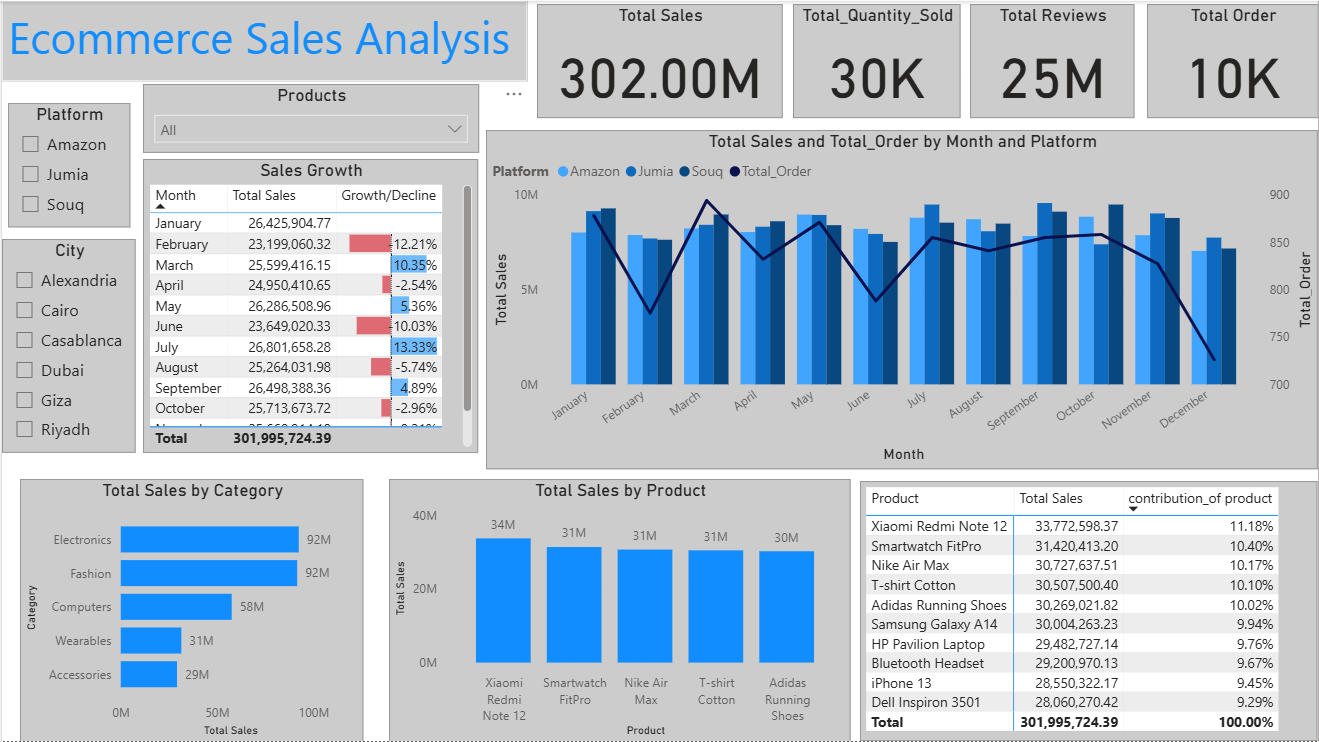

This screenshot's page, from the dashboard's own definition file:
{"tool":"powerbi","page":{"name":"Page 1","canvas":[1280,720],"ordinal":0},"visuals":[{"type":"textbox","box":[0,0,511.1,77.8],"z":0},{"type":"card","title":"Total Sales","fields":{"Values":["Measures (2).Total Sales"]},"box":[520,3.3,238.9,111.1],"z":1000},{"type":"card","title":"Total_Quantity_Sold","fields":{"Values":["Measures (2).Total_Quantity_Sold"]},"box":[768.9,3.3,163.3,111.1],"z":2000},{"type":"card","title":"Total Reviews","fields":{"Values":["Measures (2).Total_Reviews"]},"box":[941.1,3.3,160,111.1],"z":3000},{"type":"card","title":"Total Order","fields":{"Values":["Measures (2).Total_Order"]},"box":[1113.3,3.3,166.7,111.1],"z":4000},{"type":"slicer","title":"Platform","fields":{"Values":["ecommerce_10000.Platform"]},"box":[5.8,99.2,118.7,120.6],"z":5000},{"type":"slicer","title":"City","fields":{"Values":["ecommerce_10000.City"]},"box":[0,231.5,130.3,208.1],"z":6000},{"type":"tableEx","title":"Sales Growth","fields":{"Values":["Calendar_Table.Date.Variation.Date Hierarchy.Month","Measures (2).Total Sales","Measures (2).Growth/Decline"]},"box":[137.1,153.7,325.8,286],"z":7000},{"type":"lineClusteredColumnComboChart","fields":{"Category":["Calendar_Table.Date.Variation.Date Hierarchy.Month"],"Series":["ecommerce_10000.Platform"],"Y":["Measures (2).Total Sales"],"Y2":["Measures (2).Total_Order"]},"box":[470.8,125.5,809.2,329.7],"z":8000},{"type":"barChart","fields":{"Category":["ecommerce_10000.Category"],"Y":["Measures (2).Total Sales"]},"box":[17.8,464.4,334.4,255.6],"z":9000},{"type":"clusteredColumnChart","fields":{"Category":["ecommerce_10000.Product"],"Y":["Measures (2).Total Sales"]},"box":[376.7,464.4,448.9,255.6],"z":10000},{"type":"slicer","title":"Products","fields":{"Values":["ecommerce_10000.Product"]},"box":[136.7,81.1,326.7,66.7],"z":11000},{"type":"pivotTable","fields":{"Rows":["ecommerce_10000.Product"],"Values":["Measures (2).Total Sales","Measures (2).contribution_of product"]},"box":[834.5,466.9,445.5,252.9],"z":12000}]}

Visuals, with their boxes in screenshot pixels (x1, y1, x2, y2), scaled from the page's 1280x720 canvas onto the 1319x742 screenshot:
textbox: region(0, 0, 527, 80)
"Total Sales" card: region(536, 3, 782, 118)
"Total_Quantity_Sold" card: region(792, 3, 961, 118)
"Total Reviews" card: region(970, 3, 1135, 118)
"Total Order" card: region(1147, 3, 1318, 118)
"Platform" slicer: region(6, 102, 128, 227)
"City" slicer: region(0, 239, 134, 453)
"Sales Growth" tableEx: region(141, 158, 477, 453)
lineClusteredColumnComboChart - Calendar_Table.Date.Variation.Date Hierarchy.Month x ecommerce_10000.Platform: region(485, 129, 1318, 469)
barChart - ecommerce_10000.Category x Measures (2).Total Sales: region(18, 479, 363, 741)
clusteredColumnChart - ecommerce_10000.Product x Measures (2).Total Sales: region(388, 479, 851, 741)
"Products" slicer: region(141, 84, 478, 152)
pivotTable - ecommerce_10000.Product x Measures (2).Total Sales: region(860, 481, 1318, 741)
